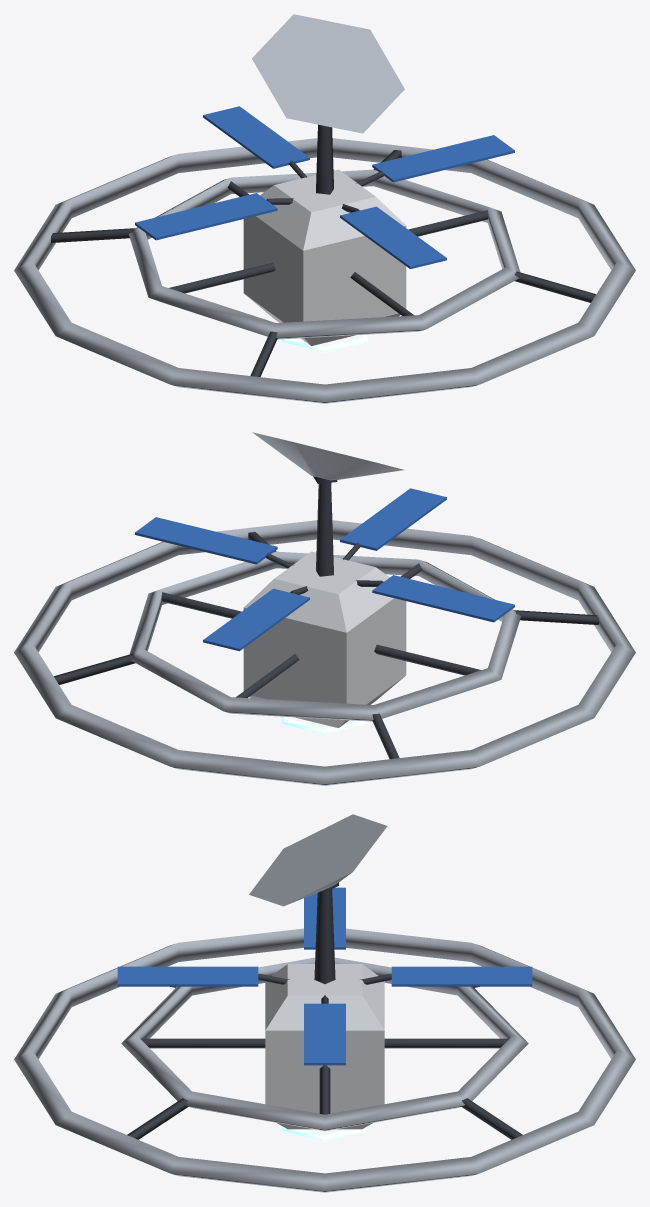
The model's file is ResearchLab_L3.glb.
3 renders of one model, top to bottom at view 1: azimuth 30°, elevation 25°; view 2: azimuth 150°, elevation 25°; view 3: azimuth 270°, elevation 25°, orthographic.
Parts seen in each view (by area): view 1: outer_ring, lab_core, deep_space_dish, observation_ring, solar_array_L, solar_array_R, solar_array_aft_R, solar_array_aft_L, mast, spoke_2, outer_spoke_0, outer_spoke_2 (+3 smaller); view 2: outer_ring, lab_core, observation_ring, solar_array_L, solar_array_R, solar_array_aft_L, solar_array_aft_R, deep_space_dish, mast, spoke_2, outer_spoke_3, outer_spoke_1 (+4 smaller); view 3: outer_ring, lab_core, observation_ring, deep_space_dish, solar_array_aft_R, solar_array_aft_L, solar_array_R, mast, solar_array_L, spoke_1, spoke_3, outer_spoke_0 (+3 smaller).
Boxes of the visible parts, x1,y1,x2,y2 form: outer_ring: (14,138,635,403); lab_core: (243,169,406,345); deep_space_dish: (252,14,404,133); observation_ring: (128,169,520,339); solar_array_L: (135,193,277,240); solar_array_R: (372,135,514,182); solar_array_aft_R: (340,206,446,268); solar_array_aft_L: (203,106,309,168); mast: (316,124,333,194); spoke_2: (169,262,275,293); outer_spoke_0: (514,271,595,302); outer_spoke_2: (51,228,135,242); outer_ring: (14,520,635,785); lab_core: (243,551,406,727); observation_ring: (129,551,521,721); solar_array_L: (372,575,514,622); solar_array_R: (135,517,277,564); solar_array_aft_L: (203,588,309,651); solar_array_aft_R: (340,488,446,550); deep_space_dish: (252,432,403,480); mast: (316,482,333,576); spoke_2: (374,644,481,675); outer_spoke_3: (54,653,135,684); outer_spoke_1: (514,610,598,624); outer_ring: (14,928,635,1192); lab_core: (265,964,384,1129); observation_ring: (121,957,528,1131); deep_space_dish: (249,814,387,906); solar_array_aft_R: (117,966,258,986); solar_array_aft_L: (391,966,532,986); solar_array_R: (304,1003,345,1065); mast: (314,889,335,983); solar_array_L: (304,887,345,949); spoke_1: (140,1038,265,1048); spoke_3: (384,1038,509,1048); outer_spoke_0: (127,1098,188,1139).
Bounding box in the file's own units: 460 × 243 × 460.
